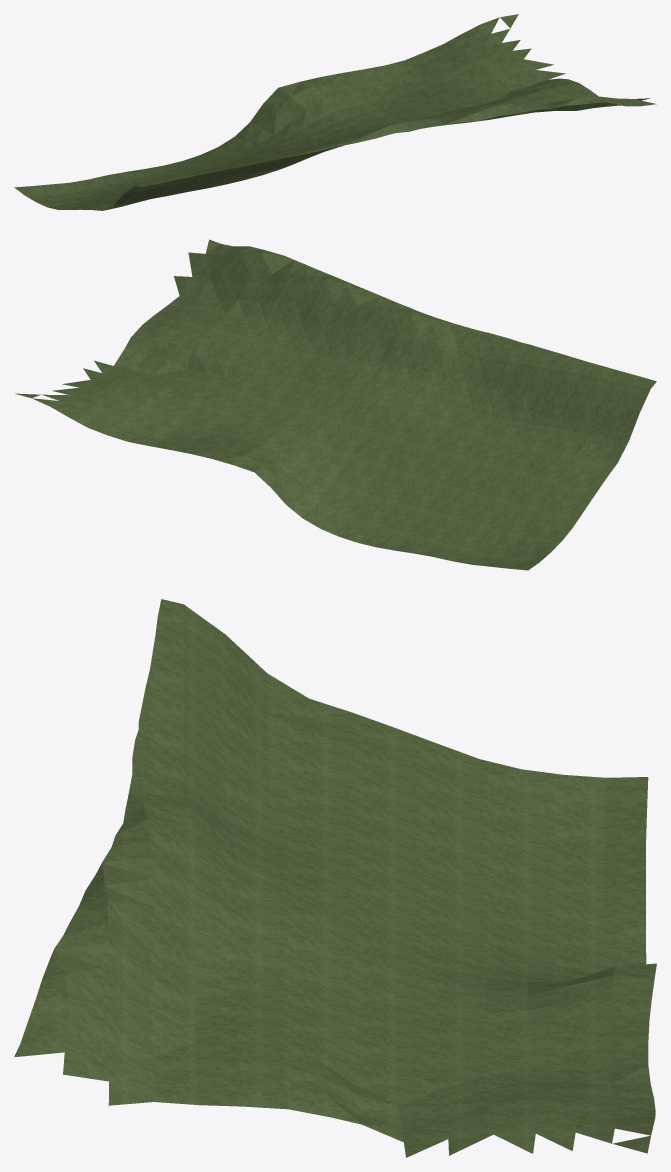
Rendered from a_carisle_mid_landmass_00_04.fbx.
3 renders of one model, top to bottom at view 1: azimuth 30°, elevation 25°; view 2: azimuth 150°, elevation 25°; view 3: azimuth 270°, elevation 25°, orthographic. The views are drawn at different scales.
Parts seen in each view (by area): view 1: a_carisle_mid_landmass_00_04; view 2: a_carisle_mid_landmass_00_04; view 3: a_carisle_mid_landmass_00_04.
Part boxes in pixels (x1=…): a_carisle_mid_landmass_00_04: x1=14, y1=14, x2=656, y2=210; a_carisle_mid_landmass_00_04: x1=15, y1=239, x2=656, y2=570; a_carisle_mid_landmass_00_04: x1=14, y1=599, x2=656, y2=1157.
Bounding box in the file's own units: 61.34 × 35.2 × 13.36.
